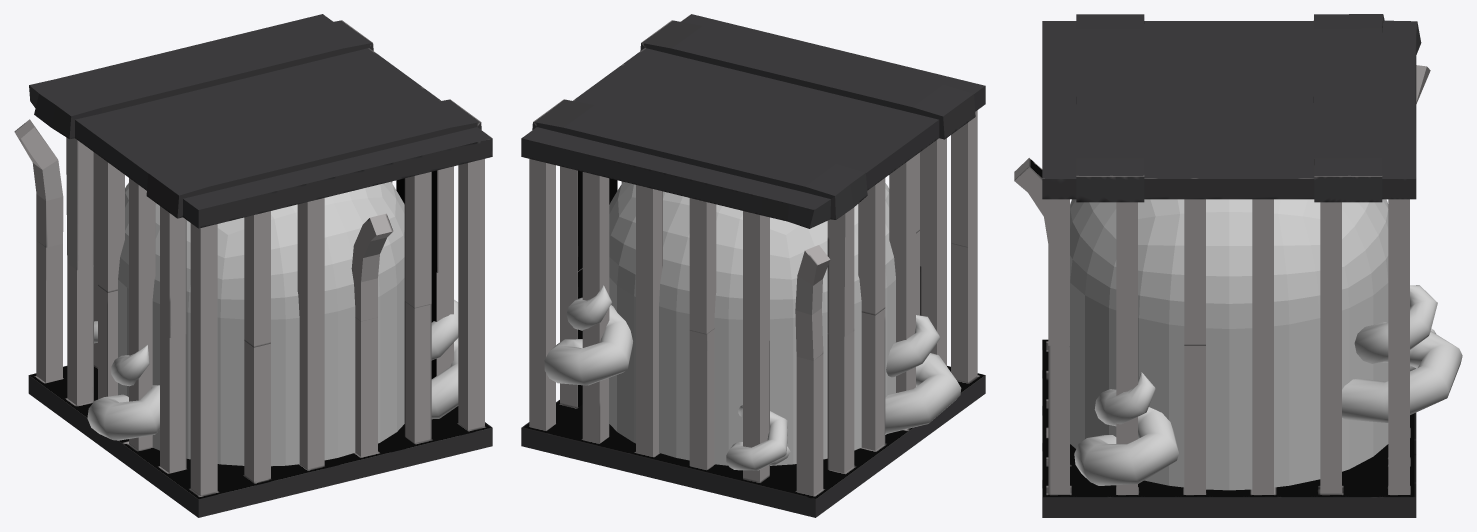
Rendered from AlienBox.fbx.
The picture shows the model from 3 angles, left to right: view 1: azimuth 30°, elevation 25°; view 2: azimuth 150°, elevation 25°; view 3: azimuth 270°, elevation 25°; orthographic projection. The views are drawn at different scales.
Parts seen in each view (by area): view 1: CAGE, Alien; view 2: CAGE, Alien; view 3: CAGE, Alien.
Boxes of the visible parts, x1,y1,x2,y2 form: CAGE: (14, 14, 492, 517); Alien: (87, 181, 458, 466); CAGE: (521, 14, 985, 517); Alien: (544, 181, 961, 470); CAGE: (1014, 14, 1430, 517); Alien: (1070, 199, 1462, 490).
Size of the model in its own units: 122 by 102 by 120.
